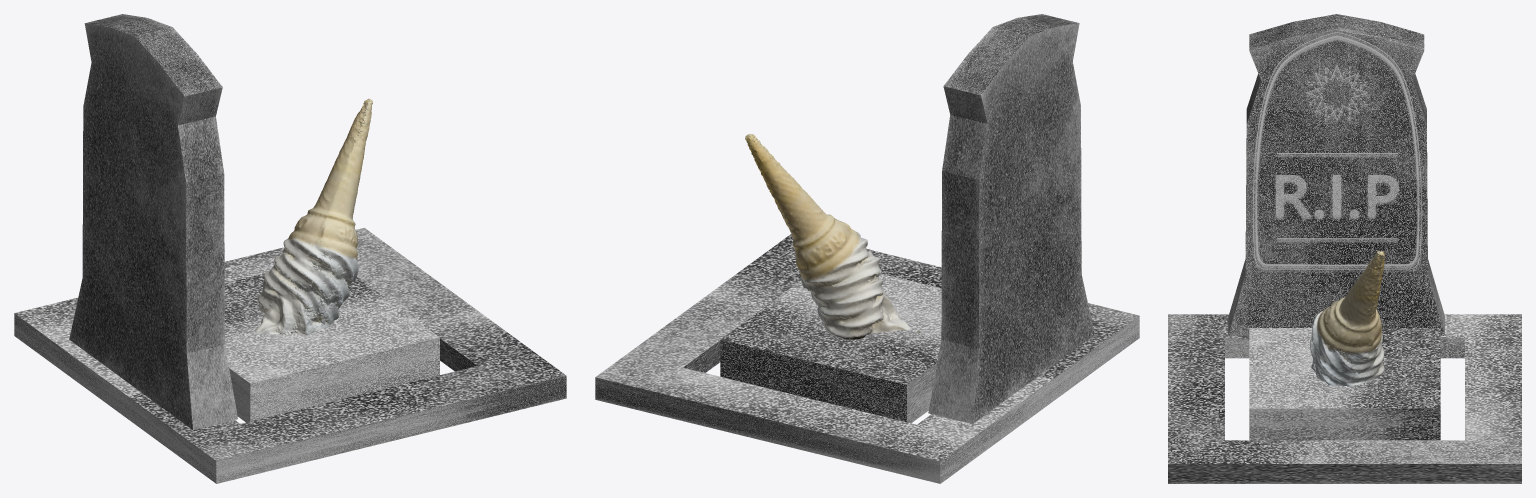
Rendered from meme5.glb.
3 views of the same model, side by side, from view 1: azimuth 30°, elevation 25°; view 2: azimuth 150°, elevation 25°; view 3: azimuth 270°, elevation 25° (orthographic). The views are drawn at different scales.
Visible parts, largest first — view 1: Cube.025, Cube.029, Cube.028, Model; view 2: Cube.025, Cube.029, Cube.028, Model; view 3: Cube.025, Cube.029, Cube.028, Model.
Boxes of the visible parts, x1=… form: Cube.025: x1=69, y1=14, x2=237, y2=429; Cube.029: x1=14, y1=227, x2=566, y2=483; Cube.028: x1=224, y1=273, x2=439, y2=422; Model: x1=243, y1=98, x2=372, y2=336; Cube.025: x1=928, y1=14, x2=1094, y2=424; Cube.029: x1=595, y1=234, x2=1139, y2=483; Cube.028: x1=720, y1=274, x2=941, y2=423; Model: x1=745, y1=134, x2=921, y2=339; Cube.025: x1=1228, y1=14, x2=1444, y2=335; Cube.029: x1=1168, y1=314, x2=1521, y2=483; Cube.028: x1=1249, y1=328, x2=1440, y2=440; Model: x1=1310, y1=251, x2=1384, y2=386.
Size of the model in its own units: 0.7549 by 0.7688 by 0.7549.
3 materials, 2 textured.
